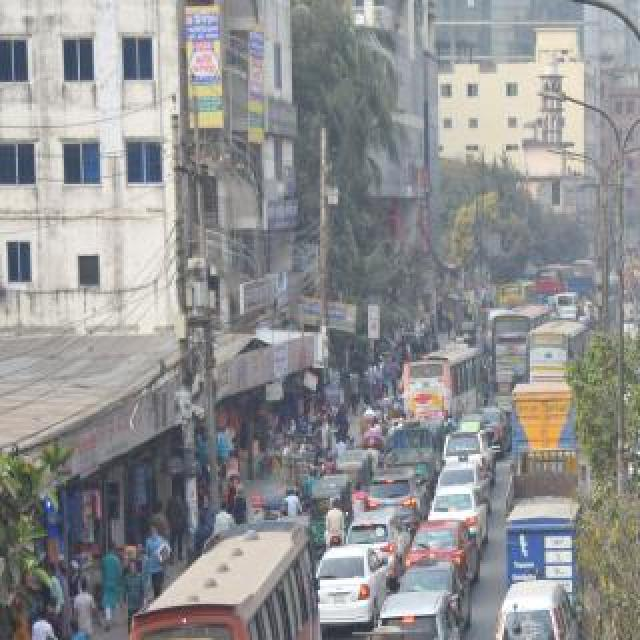bus: (132, 516, 324, 640), (403, 345, 483, 425), (493, 302, 553, 384), (528, 319, 588, 385), (612, 302, 640, 392), (536, 264, 572, 304), (495, 280, 535, 308), (4, 638, 260, 640)
car: (312, 547, 386, 619), (403, 555, 471, 625), (411, 516, 481, 584), (346, 507, 408, 571), (425, 487, 491, 543), (371, 467, 427, 527), (435, 462, 493, 502), (479, 402, 509, 460), (618, 420, 640, 496)
motorbike: (324, 498, 348, 552), (368, 440, 382, 476), (444, 411, 456, 439)
truck: (505, 445, 585, 509)
van: (503, 503, 585, 591), (496, 578, 584, 640), (509, 381, 577, 457), (372, 586, 462, 640), (382, 424, 436, 478), (568, 273, 596, 305), (486, 309, 506, 347), (557, 291, 575, 317)
